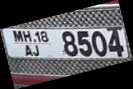character: (90, 29, 107, 56), (61, 30, 78, 56), (108, 29, 123, 57), (76, 30, 91, 56), (13, 30, 23, 42), (22, 30, 31, 42), (40, 29, 48, 42), (25, 44, 33, 56), (34, 30, 41, 42), (33, 44, 39, 56)
